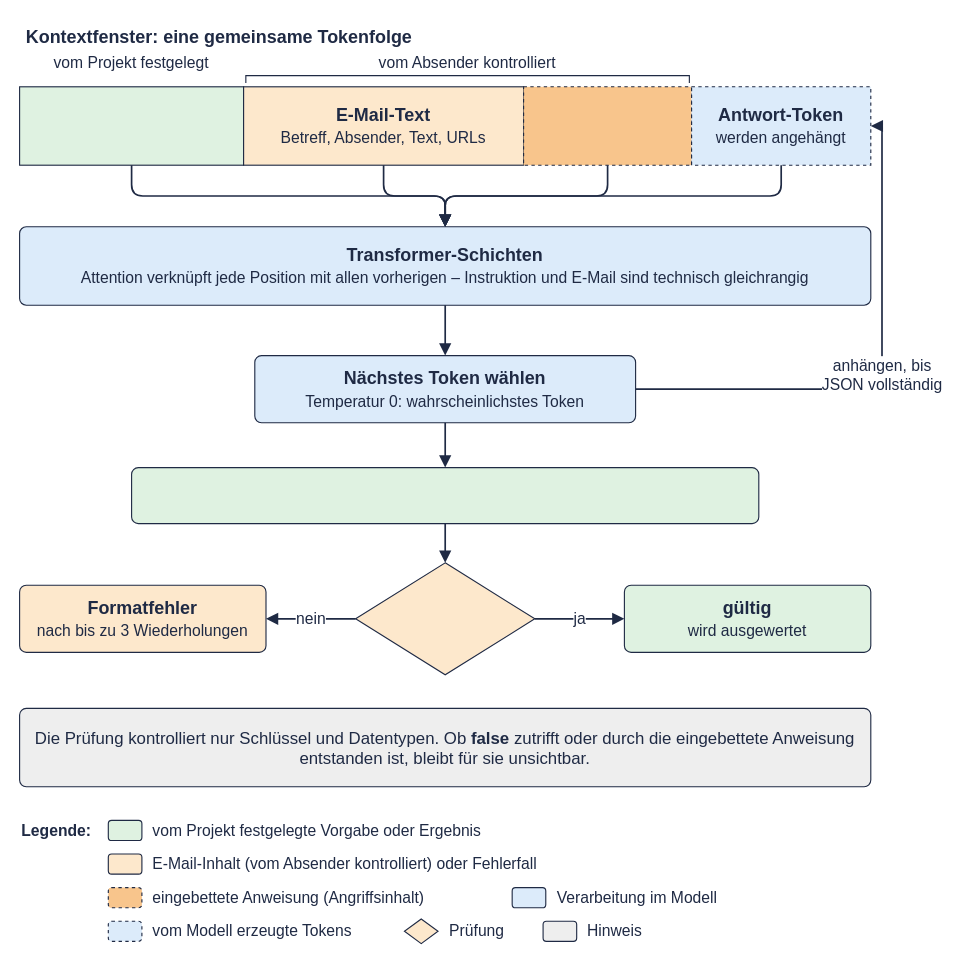
Image size: 961x967. Some labels were removed from this diagram. The centre of each missing label's shape, as x and y in pixels:
eingebettete Anweisung: (x=607, y=125)
Schema erfüllt?: (x=444, y=618)
Systeminstruktion Aufgabe, JSON-Format: (x=131, y=125)
{"is_phishing": false, "generation_origin": "llm"}: (x=444, y=495)
